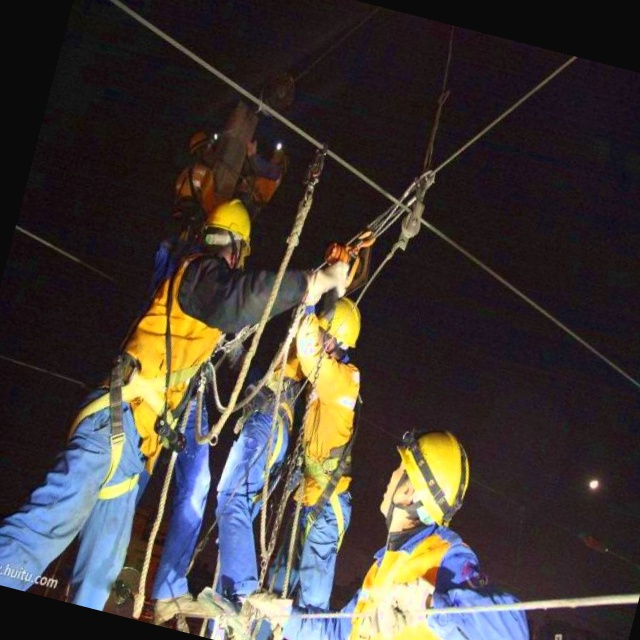Con_Casco: (377, 418, 483, 544), (197, 191, 265, 275)
